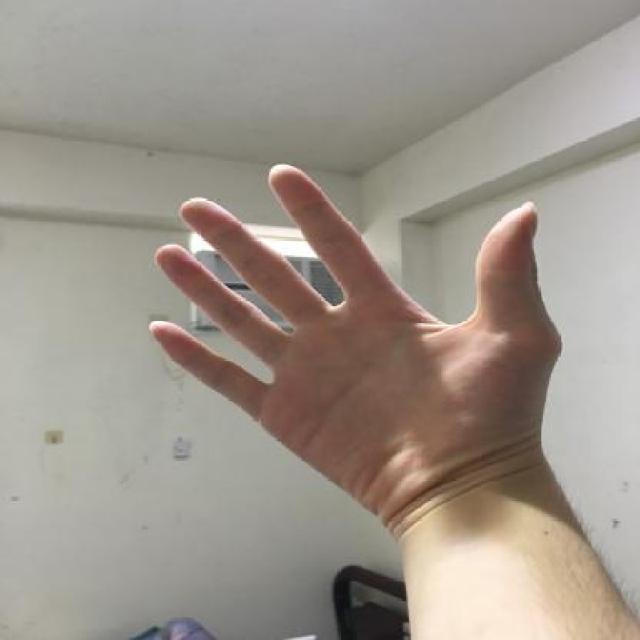bare_hand: (121, 148, 574, 550)
